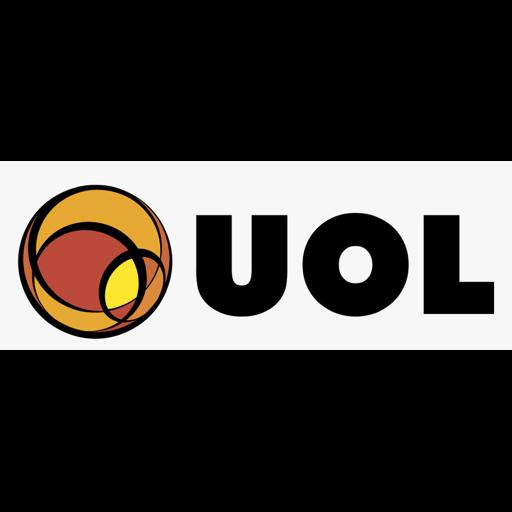Universo Online: (0, 161, 512, 350)
